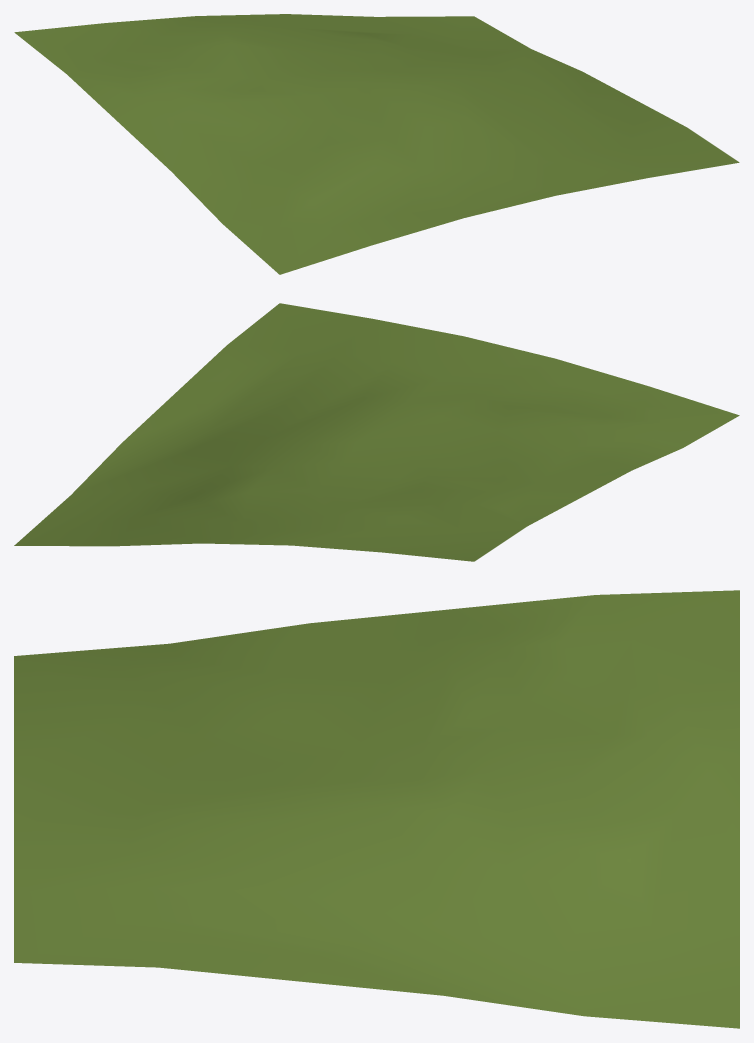
File: rpgpp_ag_terrain_hill_01d_10x10m_1-2-1-0m.fbx
3 renders of one model, top to bottom at view 1: azimuth 30°, elevation 25°; view 2: azimuth 150°, elevation 25°; view 3: azimuth 270°, elevation 25°, orthographic. The views are drawn at different scales.
Parts seen in each view (by area): view 1: rpgpp_ag_terrain_hill_01d_10x10m_1-2-1-0m; view 2: rpgpp_ag_terrain_hill_01d_10x10m_1-2-1-0m; view 3: rpgpp_ag_terrain_hill_01d_10x10m_1-2-1-0m.
Part boxes in pixels (x1,y1,x2,y2): rpgpp_ag_terrain_hill_01d_10x10m_1-2-1-0m: [14, 14, 739, 274]; rpgpp_ag_terrain_hill_01d_10x10m_1-2-1-0m: [14, 303, 739, 561]; rpgpp_ag_terrain_hill_01d_10x10m_1-2-1-0m: [14, 590, 739, 1028].
Bounding box in the file's own units: 10 × 2 × 10.
